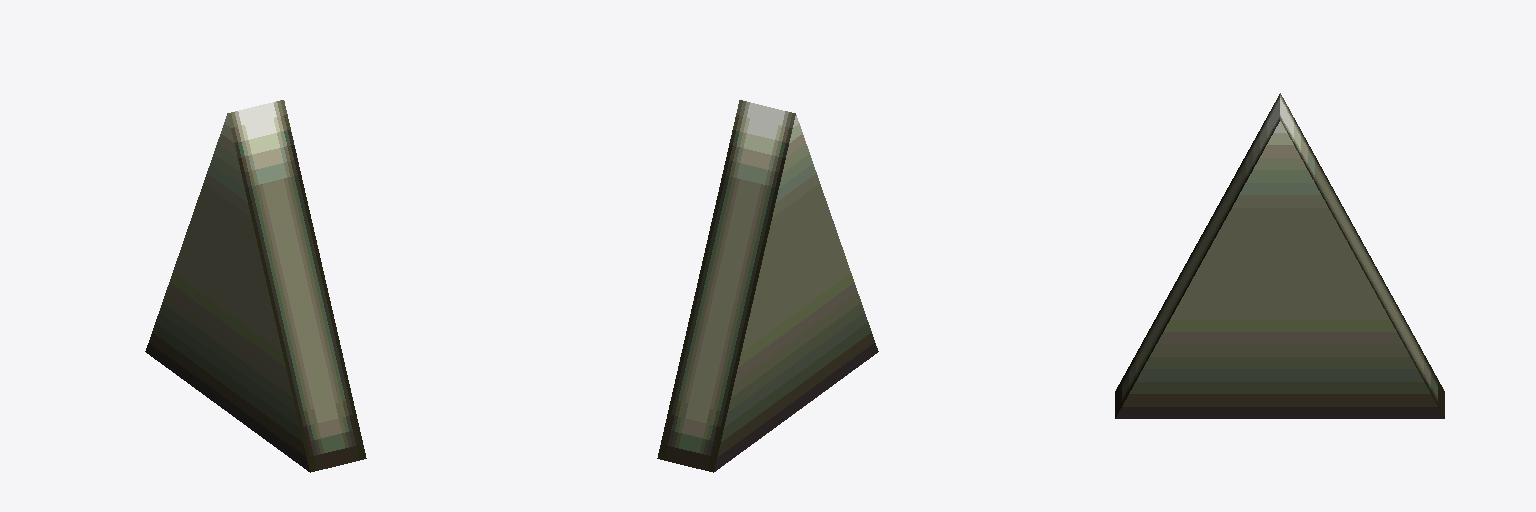
3 views of the same model, side by side, from view 1: azimuth 30°, elevation 25°; view 2: azimuth 150°, elevation 25°; view 3: azimuth 270°, elevation 25° (orthographic).
Parts seen in each view (by area): view 1: T1L2M007_21; view 2: T1L2M007_21; view 3: T1L2M007_21.
Boxes of the visible parts, x1=… form: T1L2M007_21: x1=145, y1=100, x2=366, y2=472; T1L2M007_21: x1=657, y1=100, x2=878, y2=472; T1L2M007_21: x1=1115, y1=93, x2=1444, y2=418.
Size of the model in its own units: 0.0791 by 0.3994 by 0.3994.
1 materials, 1 textured.